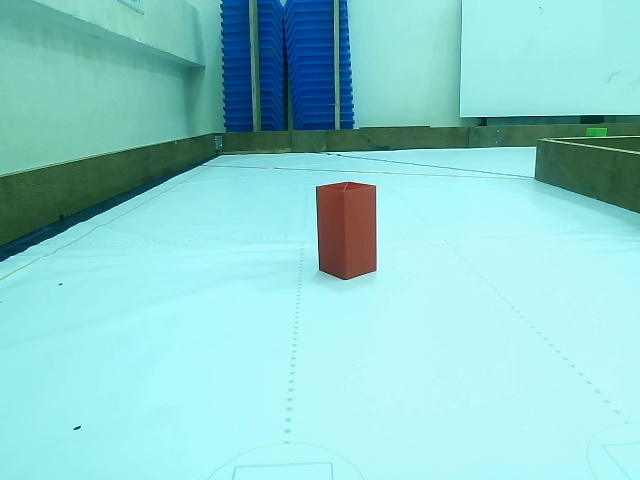red: (314, 183, 380, 277)
